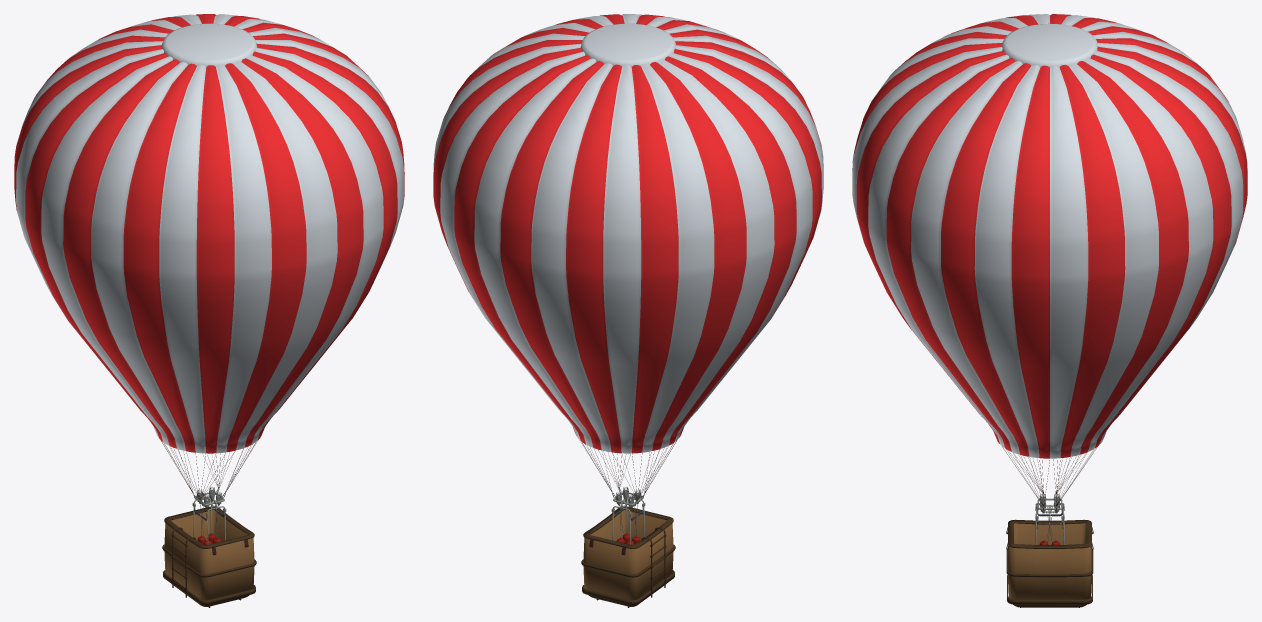
Rendered from red.glb.
The picture shows the model from 3 angles, left to right: view 1: azimuth 30°, elevation 25°; view 2: azimuth 150°, elevation 25°; view 3: azimuth 270°, elevation 25°; orthographic projection.
Visible parts, largest first — view 1: Sphere, Cube, Cylinder, Cube.004, Plane.001, Cube.002; view 2: Sphere, Cube, Cylinder, Cube.004, Plane.001, Cube.002; view 3: Sphere, Cube, Cylinder, Cube.004, Plane.001, Cube.002.
Part boxes in pixels (x1,y1,x2,y2): Sphere: (14, 14, 404, 453); Cube: (164, 510, 254, 599); Cylinder: (162, 23, 257, 66); Cube.004: (164, 506, 254, 548); Plane.001: (161, 441, 257, 499); Cube.002: (163, 570, 255, 605); Sphere: (433, 14, 823, 453); Cube: (583, 510, 673, 599); Cylinder: (580, 23, 675, 66); Cube.004: (583, 506, 673, 548); Plane.001: (581, 441, 676, 499); Cube.002: (582, 570, 674, 605); Sphere: (852, 14, 1247, 458); Cube: (1008, 523, 1091, 599); Cylinder: (1001, 23, 1098, 67); Cube.004: (1008, 519, 1091, 548); Plane.001: (1002, 446, 1097, 505); Cube.002: (1007, 575, 1092, 604).
Size of the model in its own units: 10.87 by 16.9 by 10.87.
